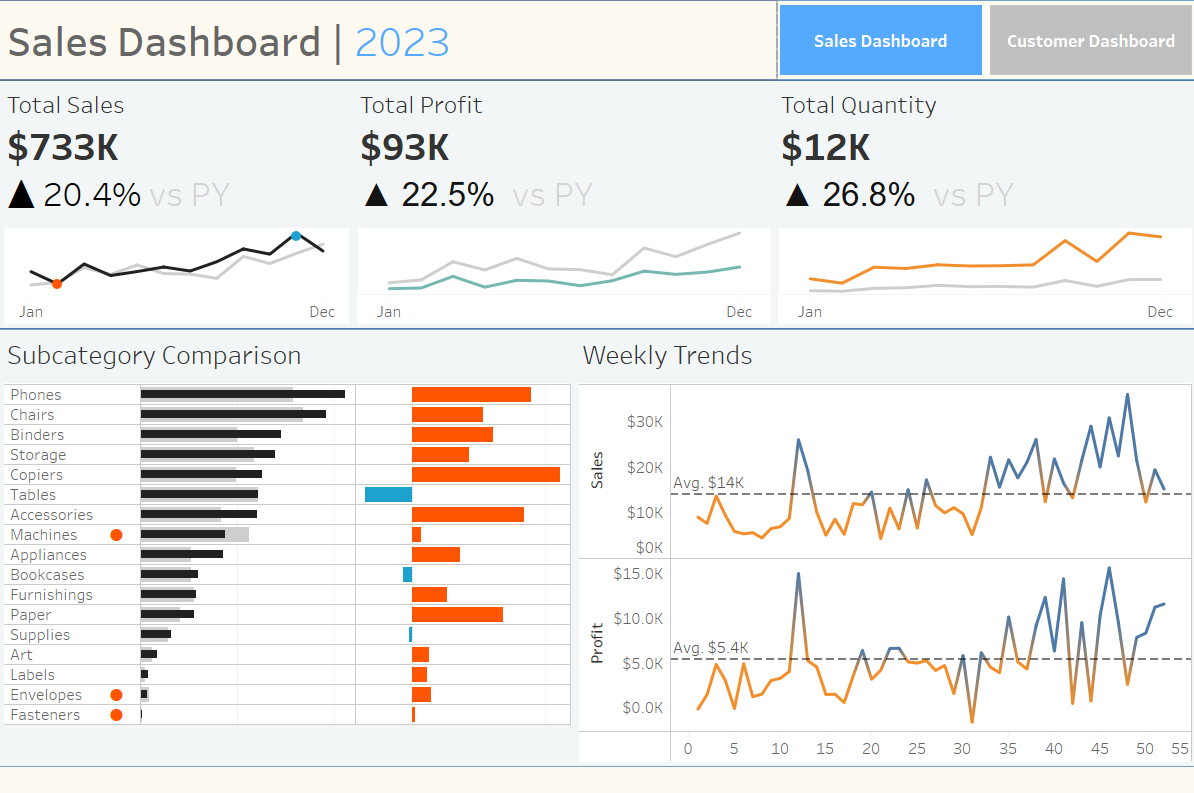

What the dashboard file says about the page in this screenshot:
{"tool":"tableau","page":{"name":"Sales Dashboard","canvas":[1200,800],"ordinal":0},"visuals":[{"type":"text","box":[2,2,776,78]},{"type":"dashboard-object","box":[778,2,210,78]},{"type":"dashboard-object","box":[988,2,210,78]},{"type":"worksheet","title":"KPI Sales","mark":"Automatic","rows":["Calculation_613615463058513925"],"cols":["Order Date"],"box":[2,82,353,247]},{"type":"worksheet","title":"KPI Profit","mark":"Line","cols":["Order Date"],"box":[355,82,421.5,247]},{"type":"worksheet","title":"KPI Quantity","mark":"Line","cols":["Order Date"],"box":[776.5,82,421.5,247]},{"type":"worksheet","title":"Subcategory Comparison","mark":"Bar","rows":["Sub-Category","Calculation_323977733444075521"],"cols":["CY Sales (copy)_613615463049814018","Calculation_613615463049031681","Profit"],"box":[2,331,575,436]},{"type":"worksheet","title":"Weekly Trends","mark":"Automatic","rows":["Calculation_613615463049031681","Profit"],"cols":["Order Date"],"box":[577,331,621,436]}]}

Visuals, with their boxes in screenshot pixels (x1, y1, x2, y2), scaled from the page's 1200x800 canvas onto the 1194x793 screenshot:
text: box=[2, 2, 774, 79]
dashboard-object: box=[774, 2, 983, 79]
dashboard-object: box=[983, 2, 1192, 79]
"KPI Sales" worksheet: box=[2, 81, 353, 326]
"KPI Profit" worksheet (Line marks): box=[353, 81, 773, 326]
"KPI Quantity" worksheet (Line marks): box=[773, 81, 1192, 326]
"Subcategory Comparison" worksheet (Bar marks): box=[2, 328, 574, 760]
"Weekly Trends" worksheet: box=[574, 328, 1192, 760]
